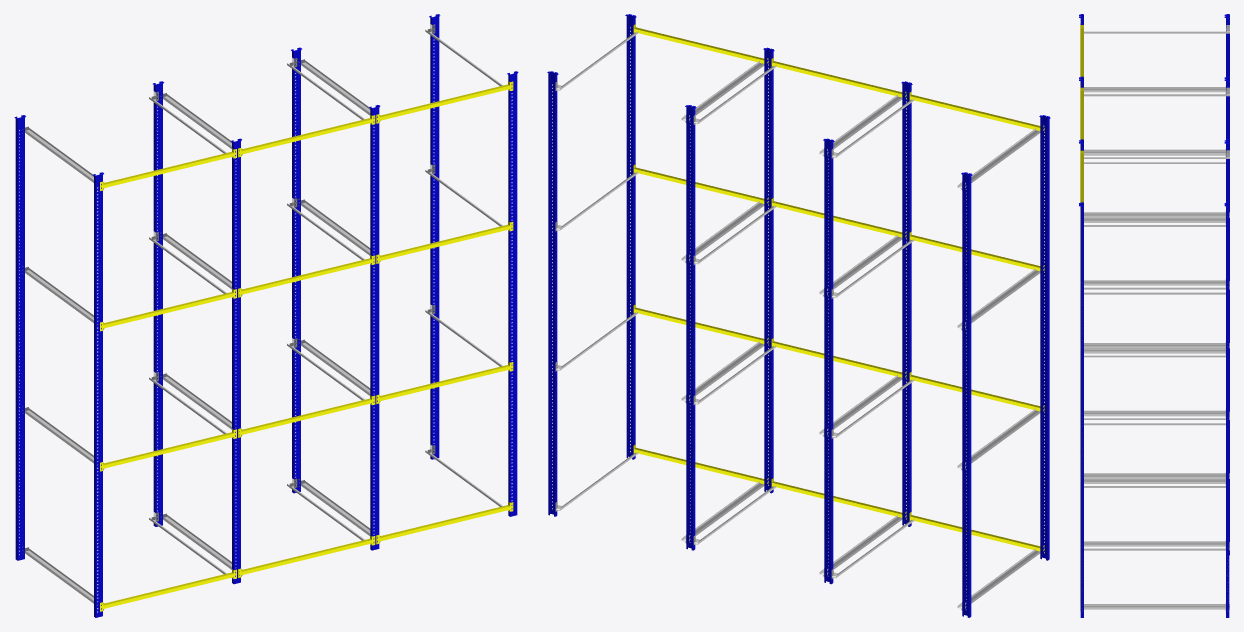
File: Miniload ASRS A01_230829.fbx
3 views of the same model, side by side, from view 1: azimuth 30°, elevation 25°; view 2: azimuth 150°, elevation 25°; view 3: azimuth 270°, elevation 25° (orthographic). The views are drawn at different scales.
Parts seen in each view (by area): view 1: Group003, Group002, Group001; view 2: Group003, Group002, Group001; view 3: Group003, Box011, Box002, Group002.
Part boxes in pixels (x1=…): Group003: x1=15, y1=14, x2=518, y2=617; Group002: x1=14, y1=115, x2=25, y2=271; Group001: x1=15, y1=410, x2=24, y2=560; Group003: x1=547, y1=14, x2=1050, y2=584; Group002: x1=961, y1=172, x2=972, y2=328; Group001: x1=962, y1=466, x2=971, y2=617; Group003: x1=1079, y1=14, x2=1229, y2=617; Box011: x1=1084, y1=25, x2=1229, y2=33; Box002: x1=1084, y1=423, x2=1225, y2=425; Group002: x1=1224, y1=14, x2=1229, y2=76.
Bounding box in the file's own units: 6.49 × 6.47 × 2.15.
